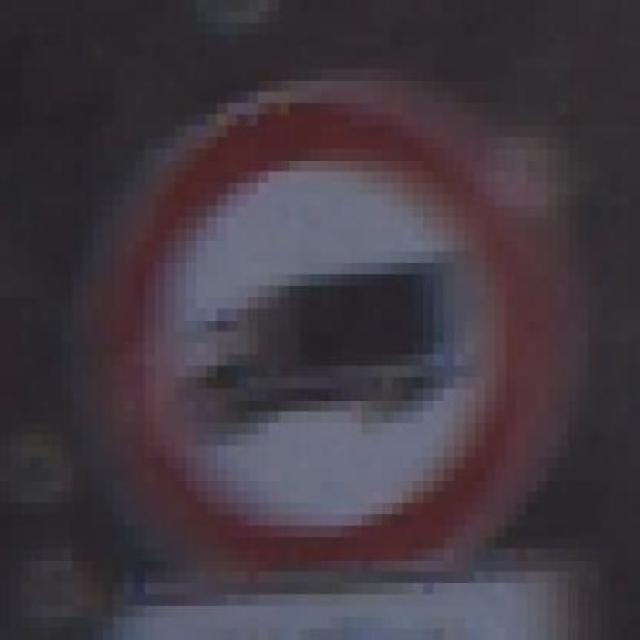Truck traffic is prohibited: (61, 68, 598, 583)
